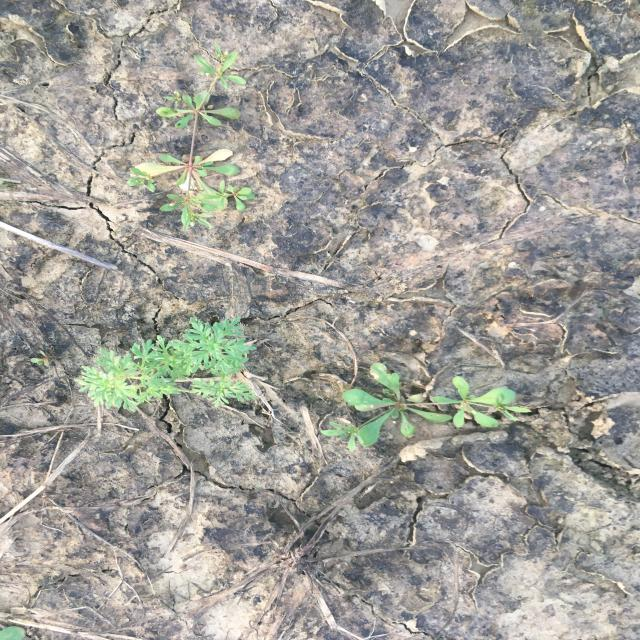Carpetweed: (126, 42, 259, 234), (318, 362, 533, 454)
Ragweed: (71, 315, 262, 413)
